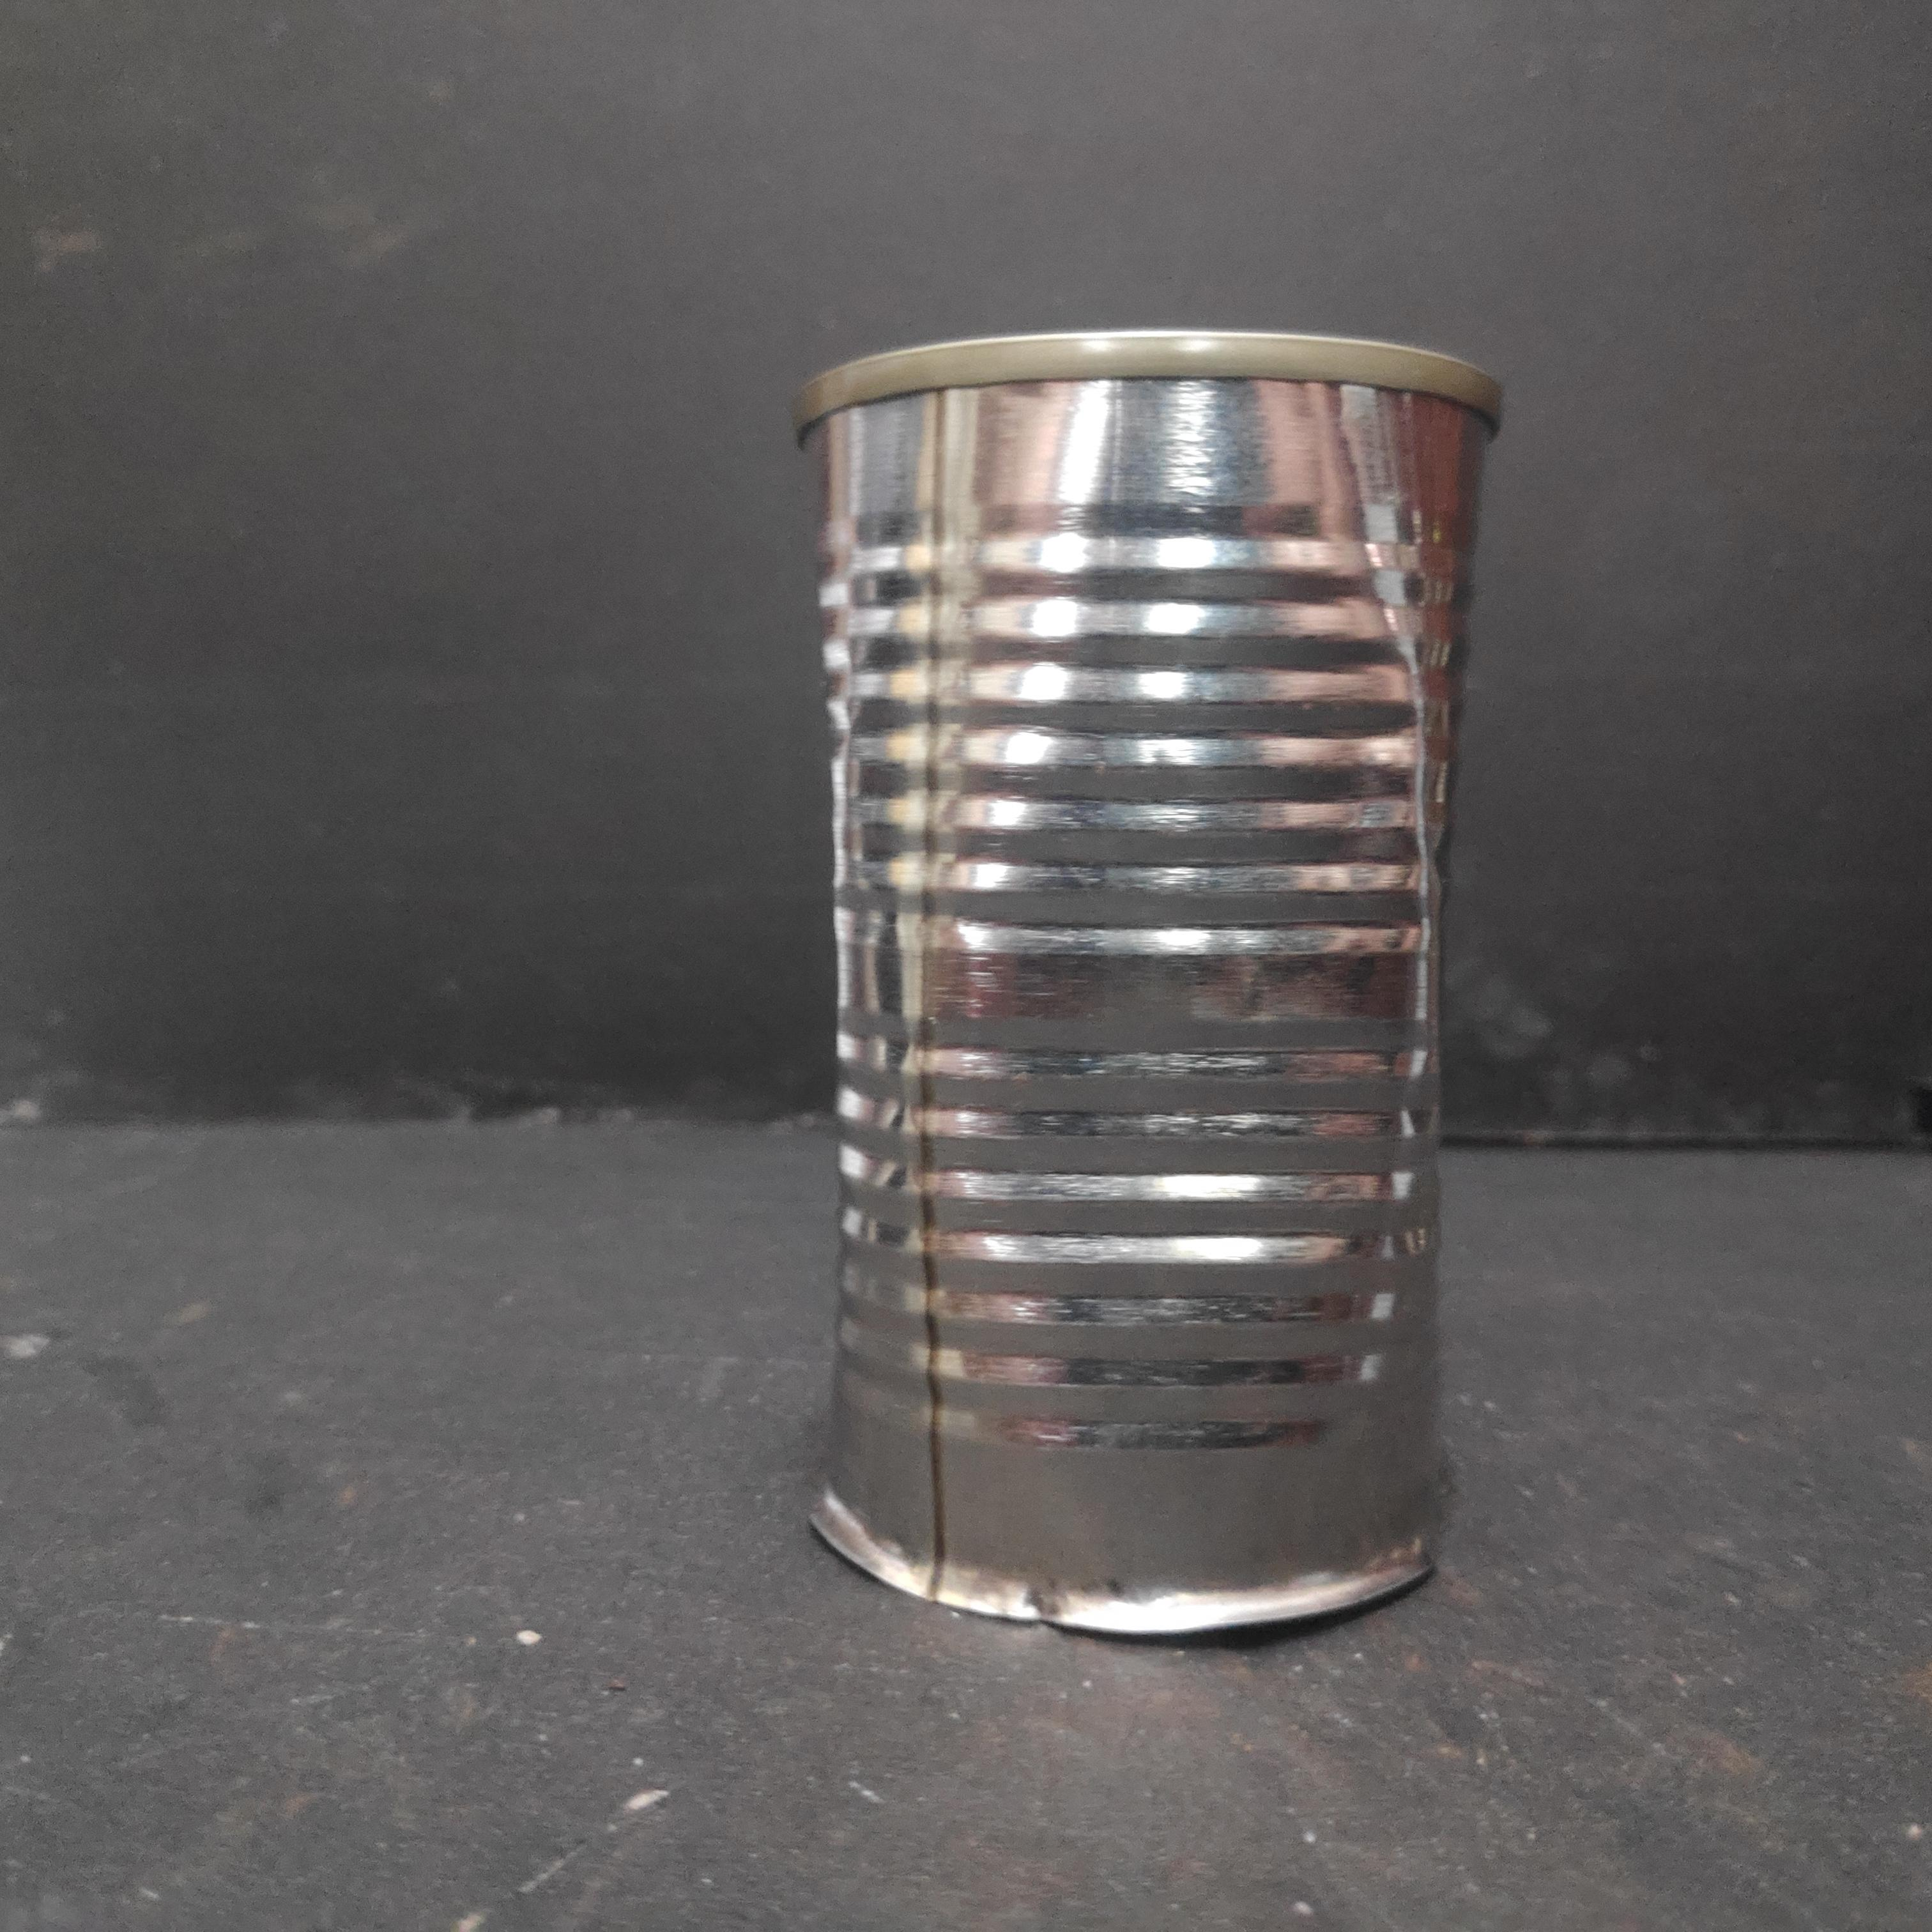Minor Defect: (775, 327, 1511, 1654)
